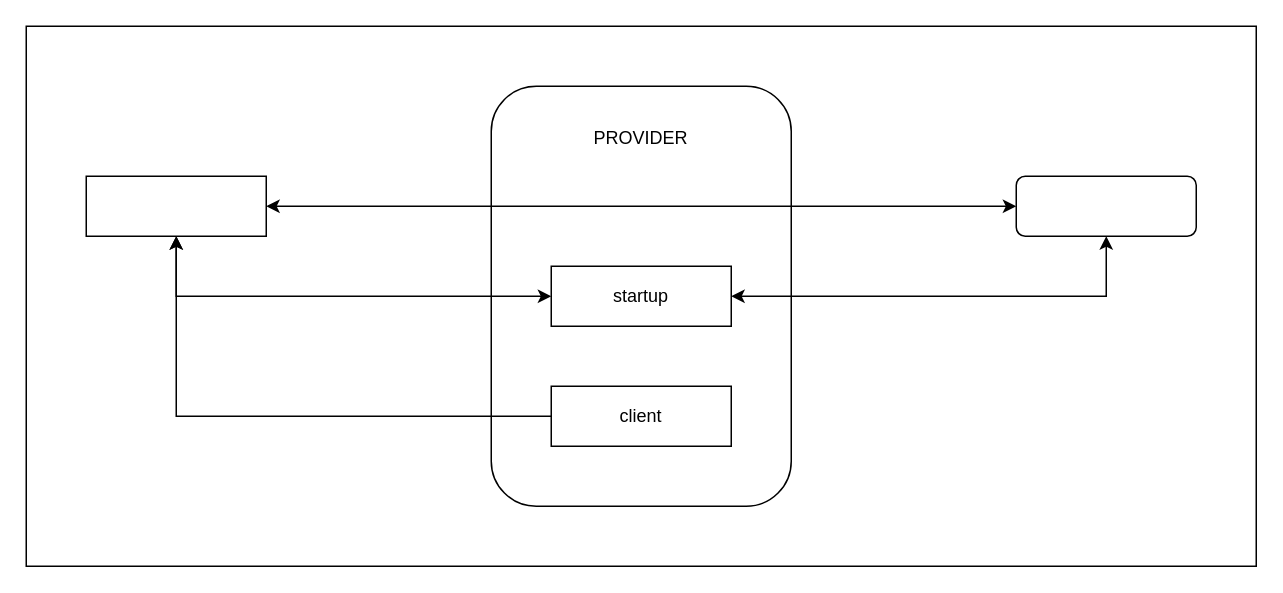
Image size: 1283x593. Some labels were removed from this diagram. Each missing label, with the centre of its shape:
"interface" goes at pixel 175 205.
"Railway" goes at pixel 1105 205.
